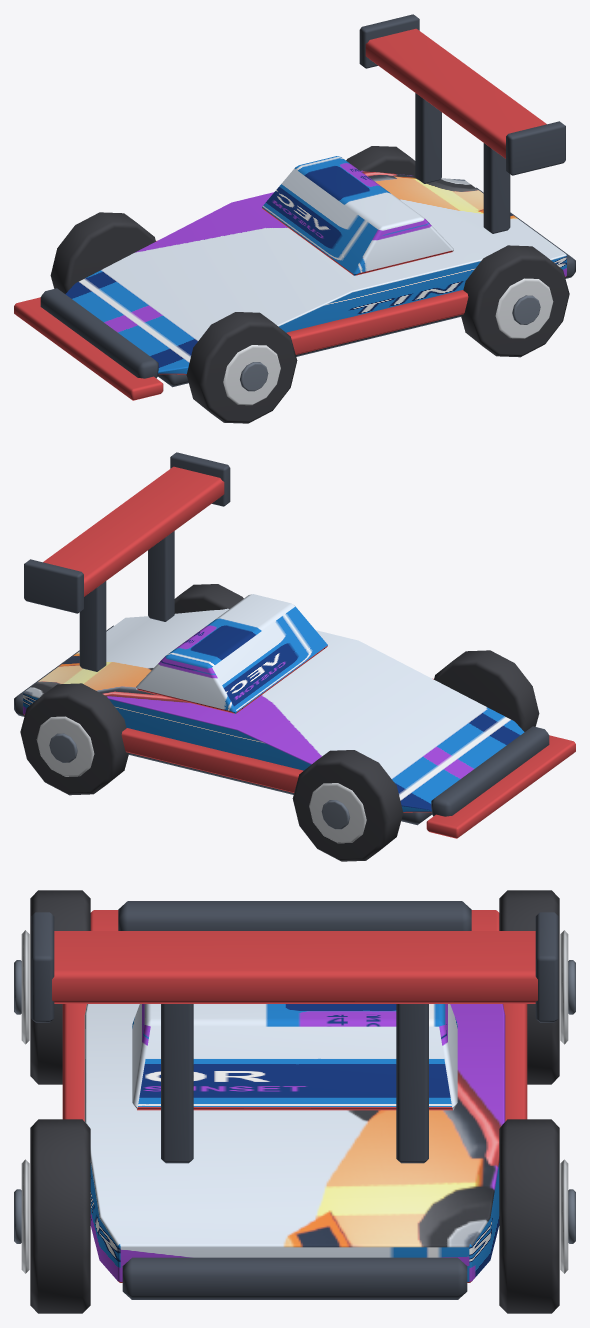
The picture shows the model from 3 angles, top to bottom: view 1: azimuth 30°, elevation 25°; view 2: azimuth 150°, elevation 25°; view 3: azimuth 270°, elevation 25°; orthographic projection. The views are drawn at different scales.
Visible parts, largest first — view 1: FF-05_connected_shell, FF-05_cabin, rear airfoil, Tire, Tire.002, Tire.001, custom side guard, custom chin, front bumper, wing endplate, wing support, wing support.001 (+7 smaller); view 2: FF-05_connected_shell, FF-05_cabin, rear airfoil, Tire.001, Tire.003, Tire, custom side guard.001, custom chin, front bumper, wing endplate.001, wing support.001, wing support (+7 smaller); view 3: FF-05_connected_shell, rear airfoil, FF-05_cabin, rear bumper, Tire.002, Tire.003, front bumper, wing support, wing support.001, Tire, Tire.001, custom side guard (+8 smaller).
Part boxes in pixels (box(x1,y1,x2,y2)): FF-05_connected_shell: box(65, 170, 566, 374); FF-05_cabin: box(262, 156, 453, 275); rear airfoil: box(365, 28, 546, 158); Tire: box(186, 312, 297, 423); Tire.002: box(461, 245, 569, 357); Tire.001: box(50, 212, 155, 293); custom side guard: box(286, 290, 468, 354); custom chin: box(14, 297, 163, 400); front bumper: box(40, 288, 158, 378); wing endplate: box(506, 121, 565, 175); wing support: box(483, 143, 510, 233); wing support.001: box(415, 93, 441, 183); FF-05_connected_shell: box(23, 608, 524, 812); FF-05_cabin: box(136, 594, 327, 713); rear airfoil: box(43, 466, 224, 596); Tire.001: box(292, 750, 403, 861); Tire.003: box(20, 683, 128, 795); Tire: box(434, 650, 539, 731); custom side guard.001: box(121, 728, 303, 792); custom chin: box(426, 735, 575, 838); front bumper: box(431, 726, 549, 816); wing endplate.001: box(24, 559, 83, 613); wing support.001: box(79, 581, 106, 671); wing support: box(148, 531, 174, 621); FF-05_connected_shell: box(84, 1004, 505, 1282); rear airfoil: box(52, 931, 537, 1003); FF-05_cabin: box(132, 1004, 457, 1110); rear bumper: box(122, 1257, 467, 1299); Tire.002: box(30, 1119, 90, 1313); Tire.003: box(499, 1119, 559, 1313); front bumper: box(118, 901, 471, 930); wing support: box(161, 1004, 193, 1163); wing support.001: box(396, 1004, 428, 1163); Tire: box(30, 890, 90, 1084); Tire.001: box(499, 890, 559, 1084); custom side guard: box(62, 1004, 86, 1121).
Bounding box in the file's own units: 391 × 183 × 242.
